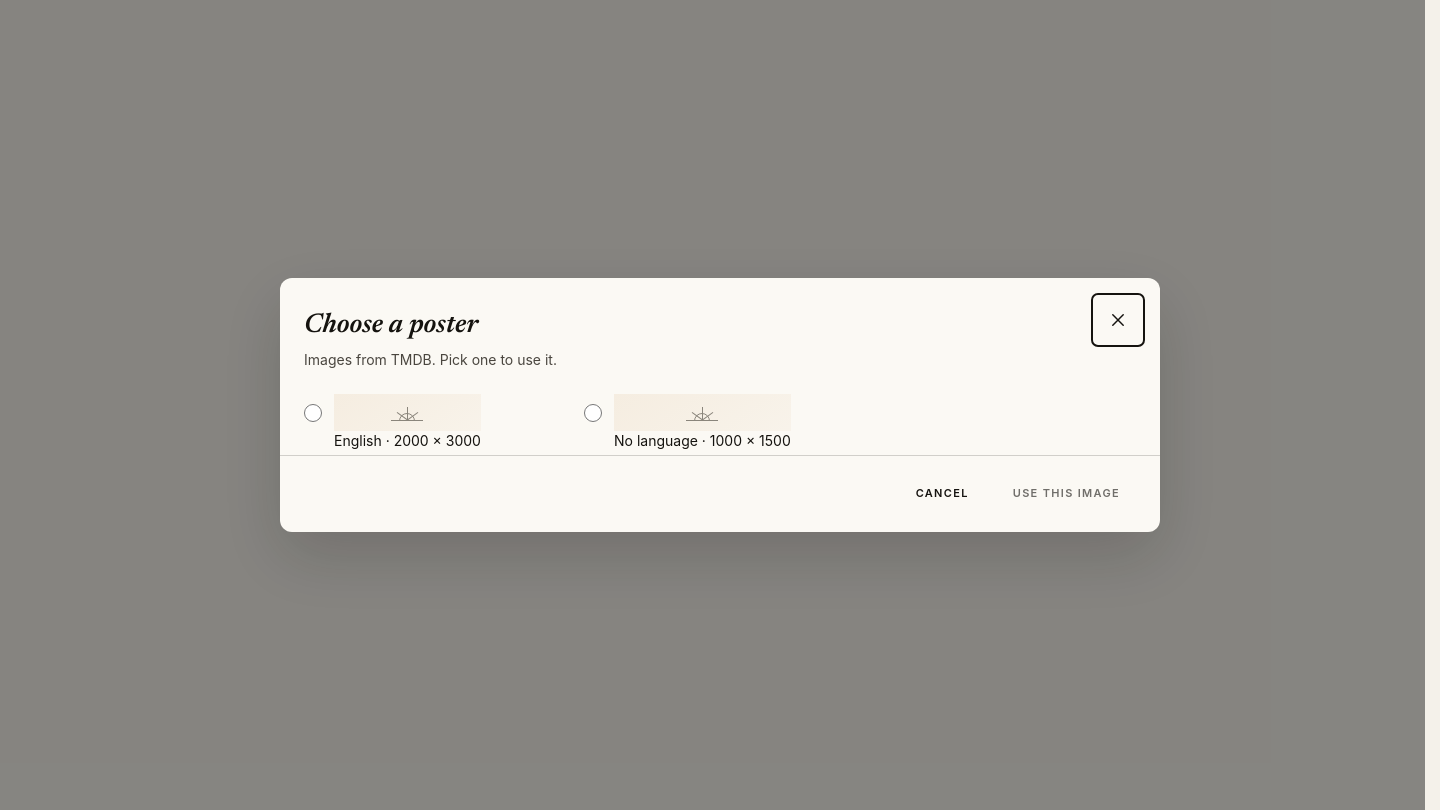
Test case: CandidateDialog › is a radio group; Use this image is disabled until one is chosen
The width and height of the screenshot is (1440, 810).
Expected: the element named "Poster candidates" is shown, [304,394,791,449]
Expected: the button "Use this image" is disabled, [997,472,1136,516]
Click the radio button labelled "English · 2000 × 3000": {"x": 313, "y": 413} [304,404,322,422]
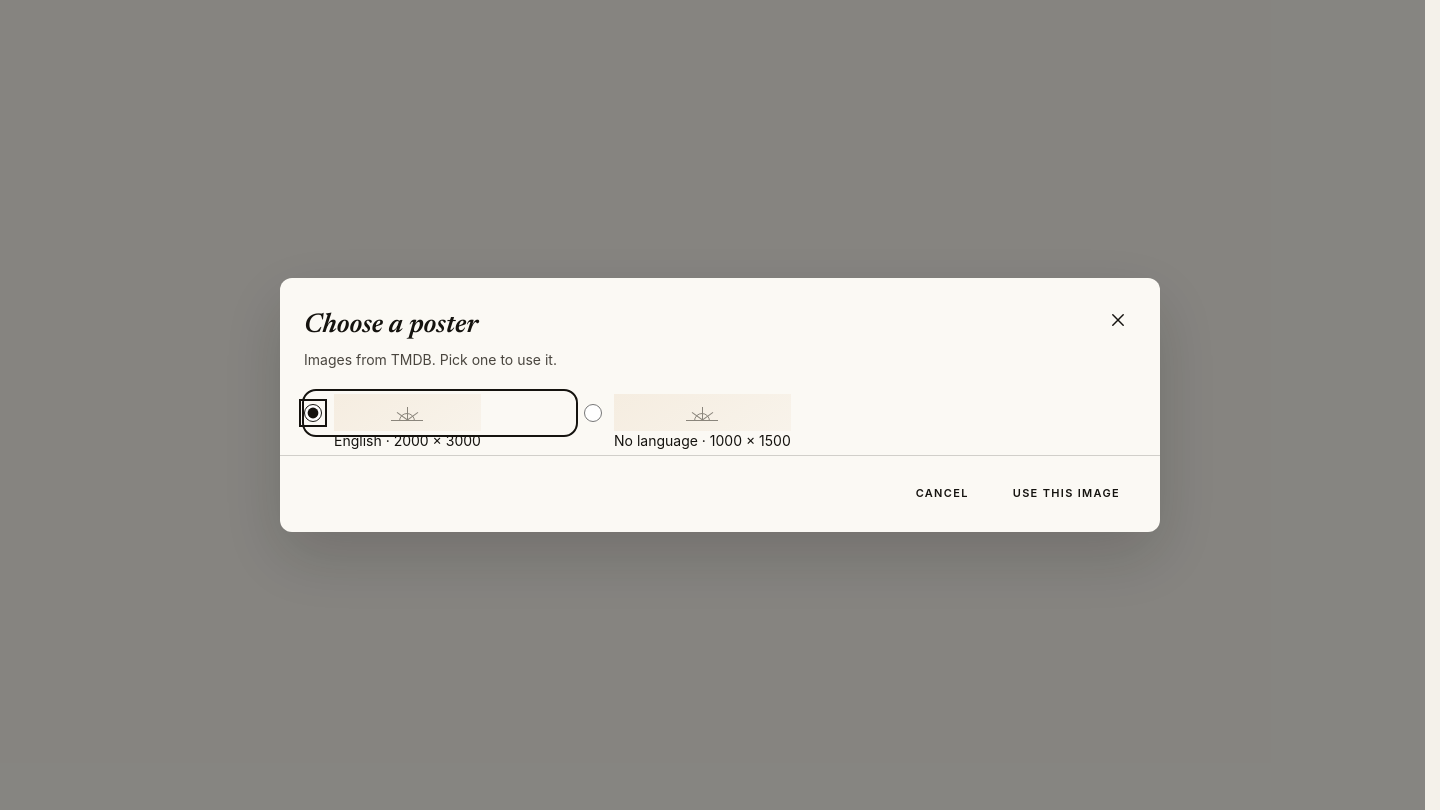
Press Arrowdown
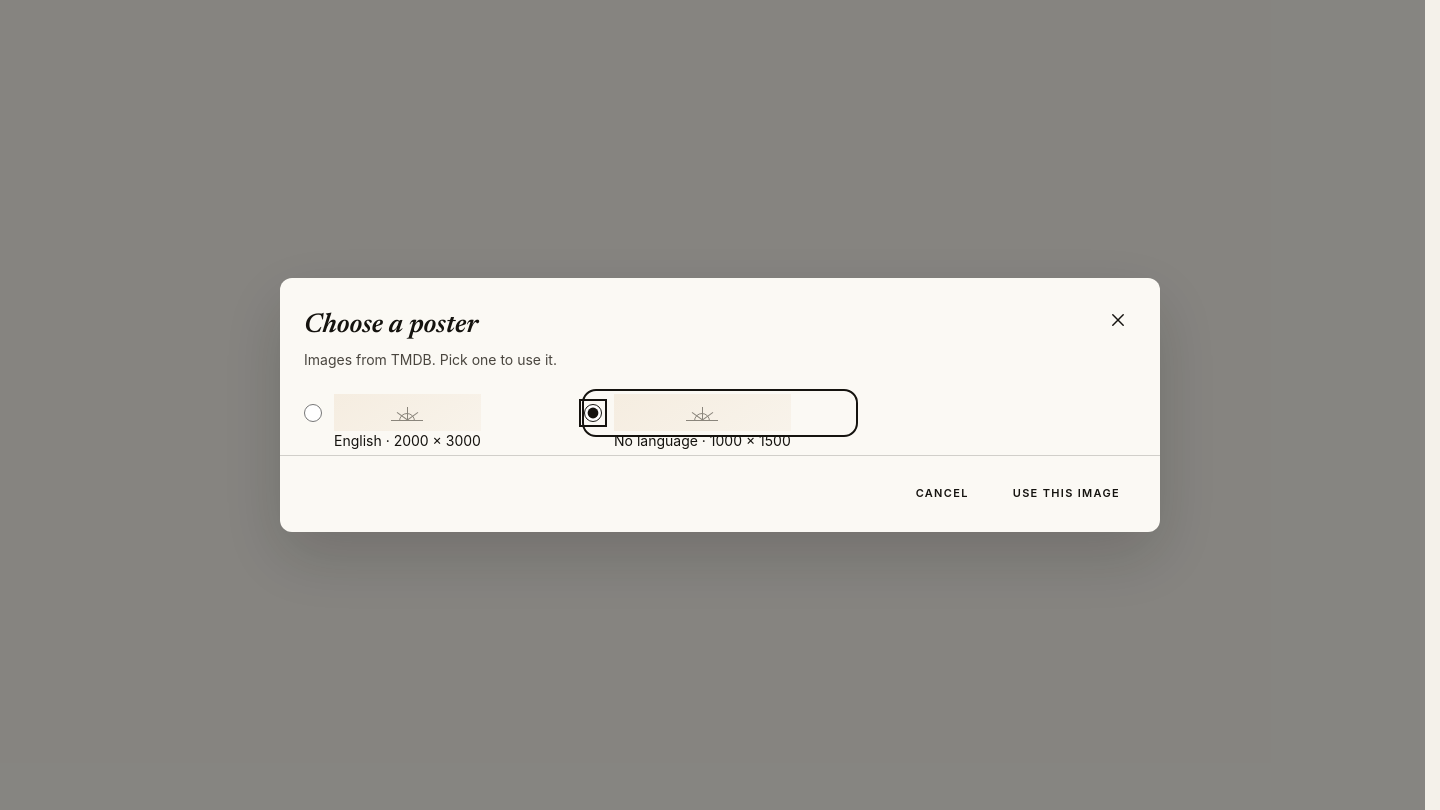
Now the button "Use this image" is enabled, box [997,472,1136,516]
Now the radio button labelled "No language · 1000 × 1500" is checked, box [584,404,602,422]
